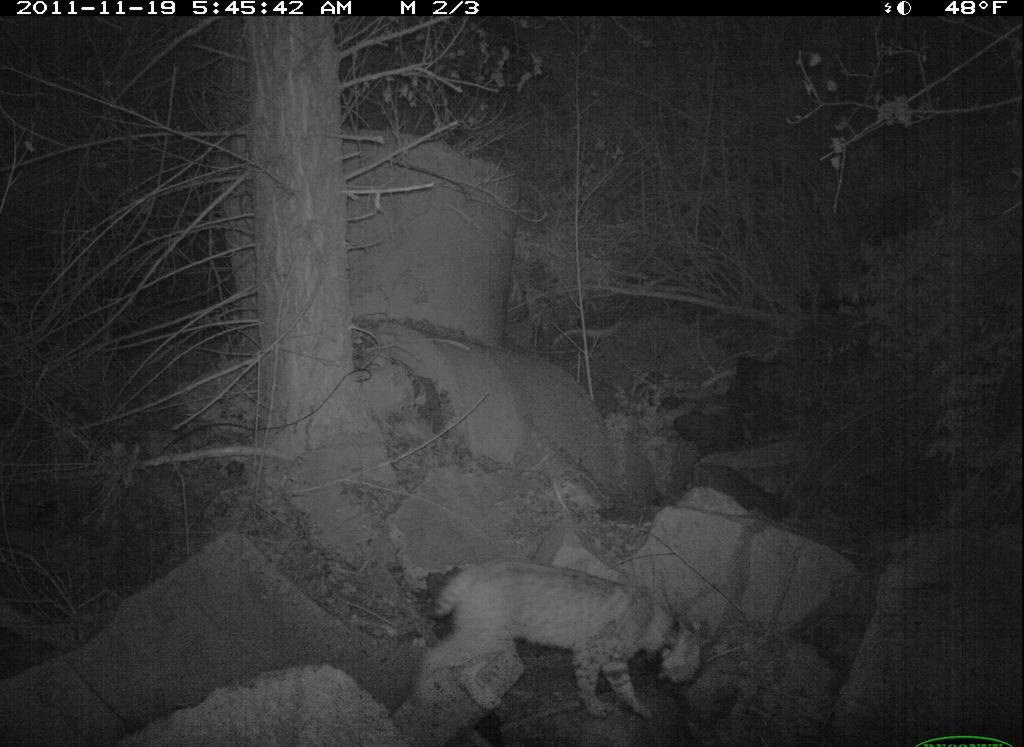bobcat: (420, 543, 720, 742)
